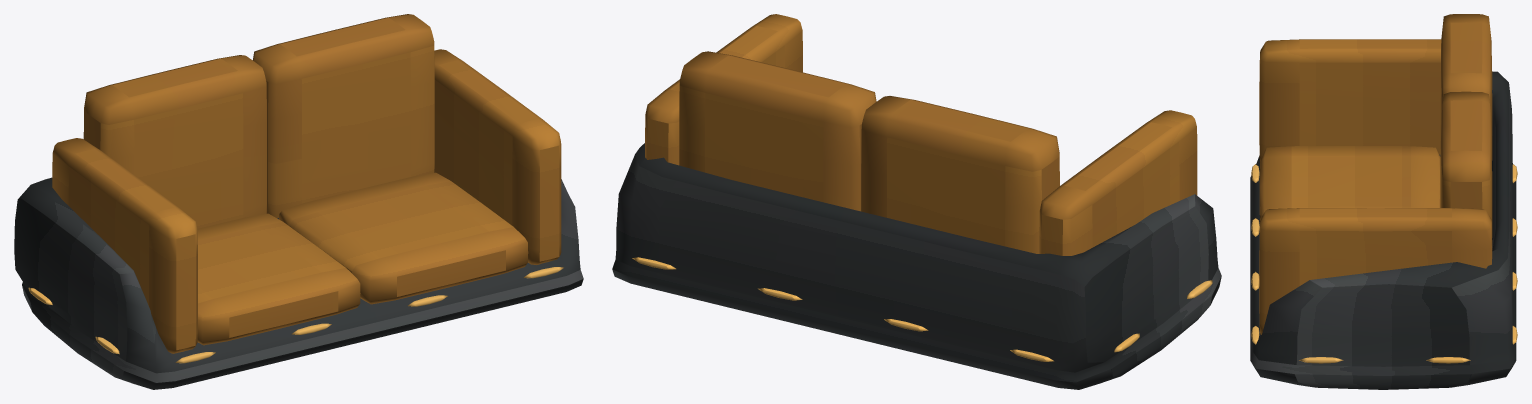
Rendered from Couch02_Orange.fbx.
The picture shows the model from 3 angles, left to right: view 1: azimuth 30°, elevation 25°; view 2: azimuth 150°, elevation 25°; view 3: azimuth 270°, elevation 25°; orthographic projection. The views are drawn at different scales.
Parts seen in each view (by area): view 1: Sofa_1; view 2: Sofa_1; view 3: Sofa_1.
Boxes of the visible parts, box(x1,y1,x2,y2) form: Sofa_1: box(14, 14, 583, 389); Sofa_1: box(612, 14, 1221, 389); Sofa_1: box(1250, 14, 1517, 389).
Size of the model in its own units: 177 by 77.7 by 92.75.
